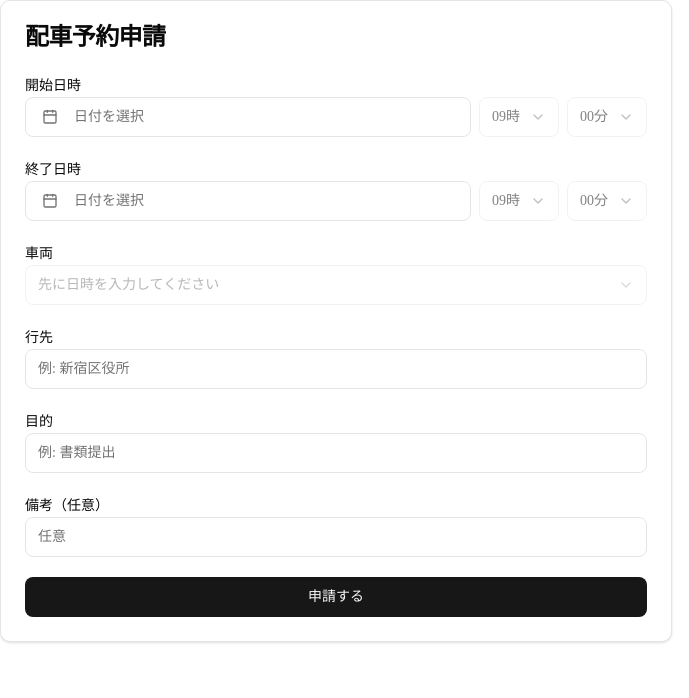
Test case: ReservationForm › 行先を空にして送信するとバリデーションエラーが表示される
Click the button "申請する" at (336, 597), box [25,577,647,617]
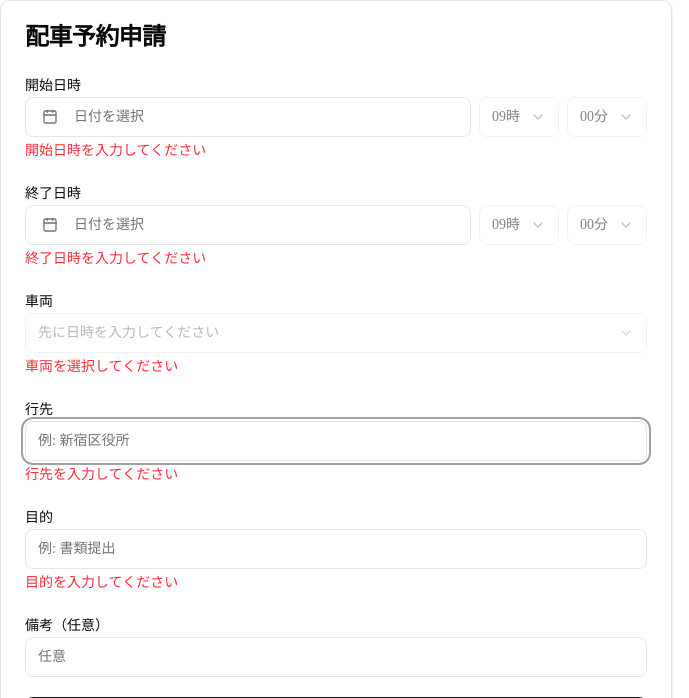
Result: the text "行先を入力してください" is shown at [25,467,178,482]
